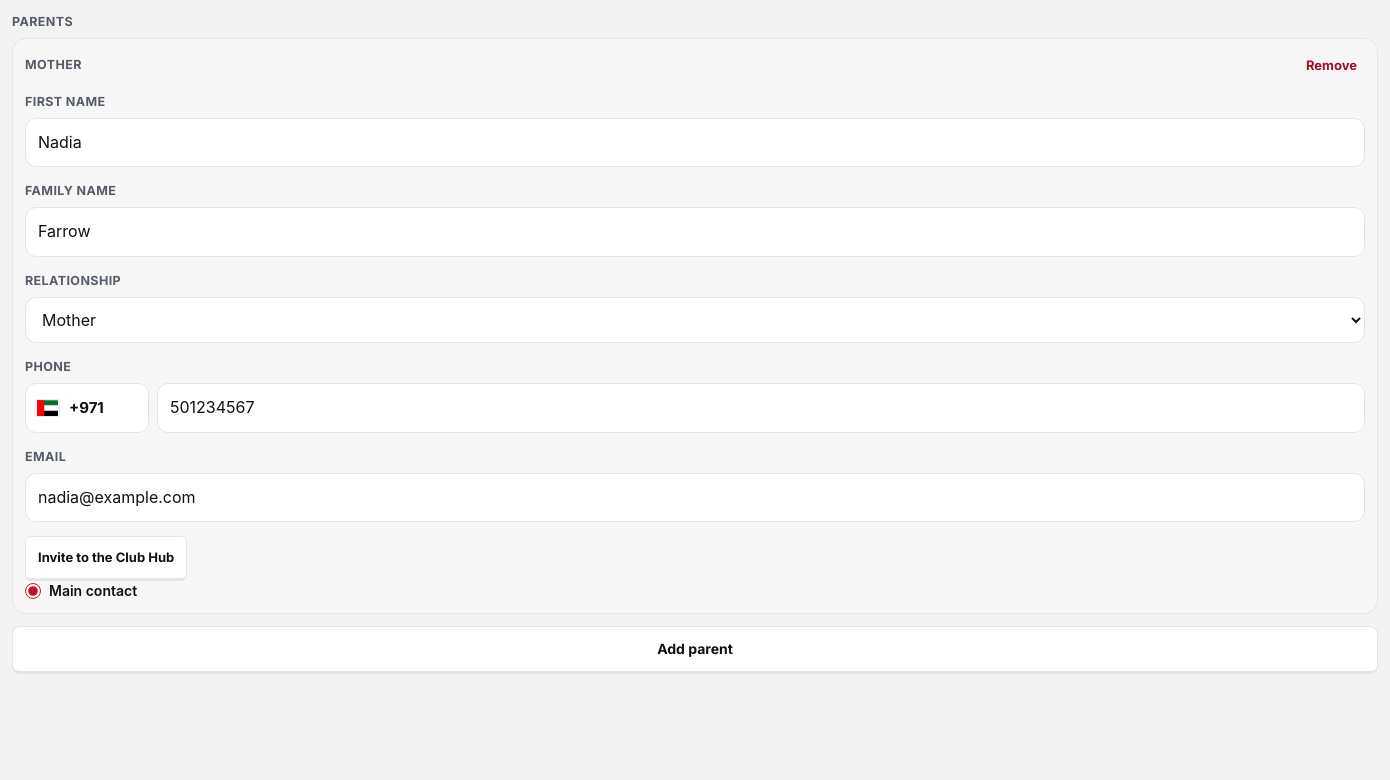
sending one › says an invite it can grant needs nothing further
Click the button with aria-label "Invite Nadia Farrow".
click(106, 559)  # box left=25, top=536, right=187, bottom=581
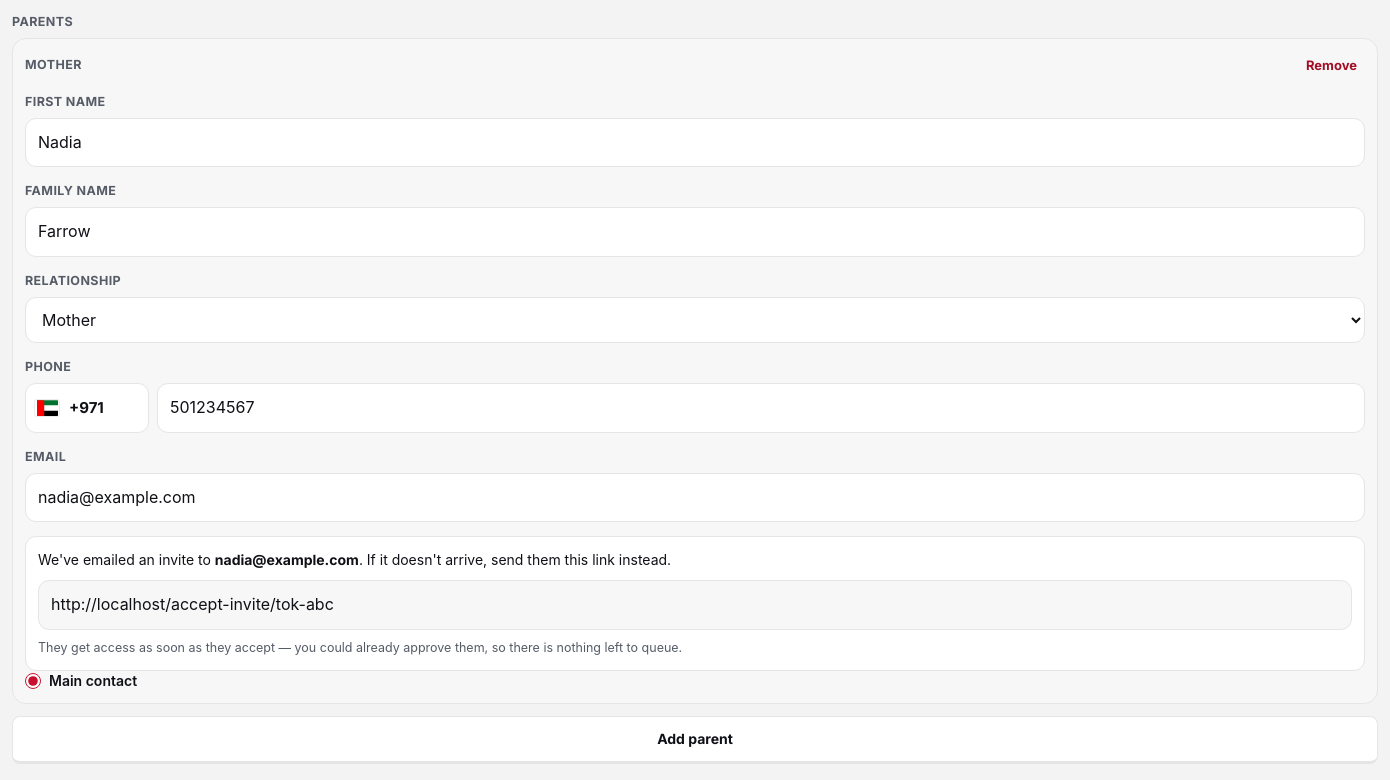
Result: the text "as soon as they accept" is shown at left=38, top=640, right=682, bottom=654
